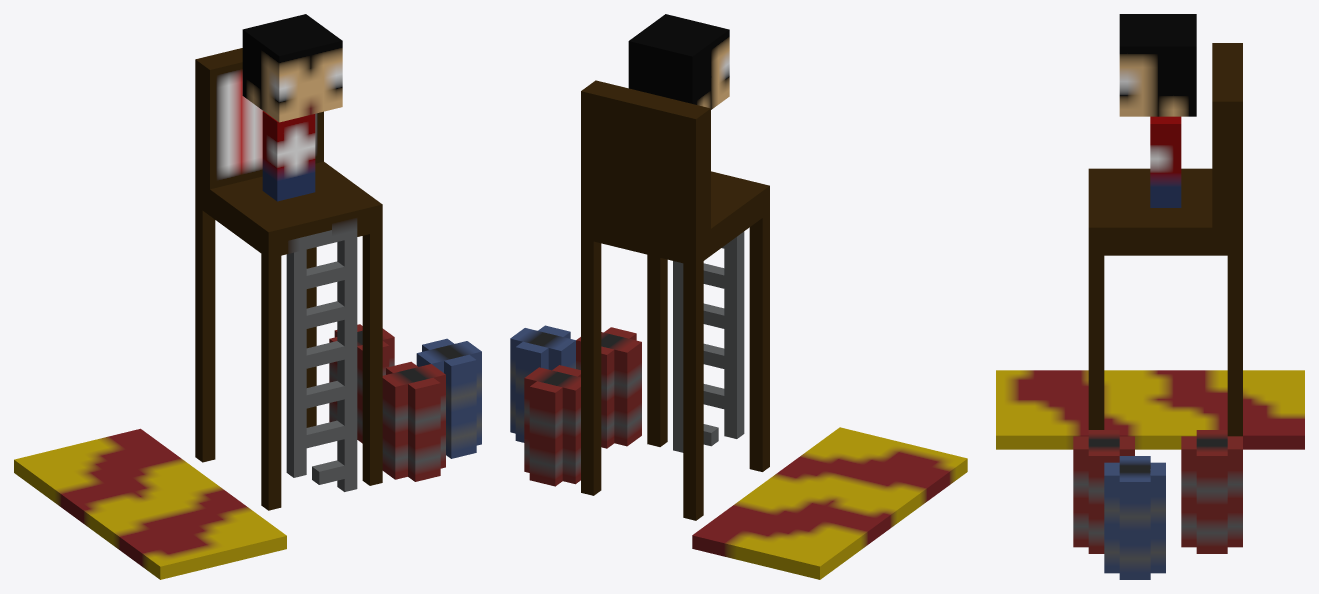
Rendered from Lifeguard1.dae.
3 views of the same model, side by side, from view 1: azimuth 30°, elevation 25°; view 2: azimuth 150°, elevation 25°; view 3: azimuth 270°, elevation 25° (orthographic). The views are drawn at different scales.
Visible parts, largest first — view 1: Lifeguard1; view 2: Lifeguard1; view 3: Lifeguard1.
Part boxes in pixels (bbox=[...]): Lifeguard1: bbox=[14, 14, 481, 579]; Lifeguard1: bbox=[510, 14, 967, 579]; Lifeguard1: bbox=[996, 14, 1304, 579].
Size of the model in its own units: 30 by 33 by 20.
1 material, 1 textured.
